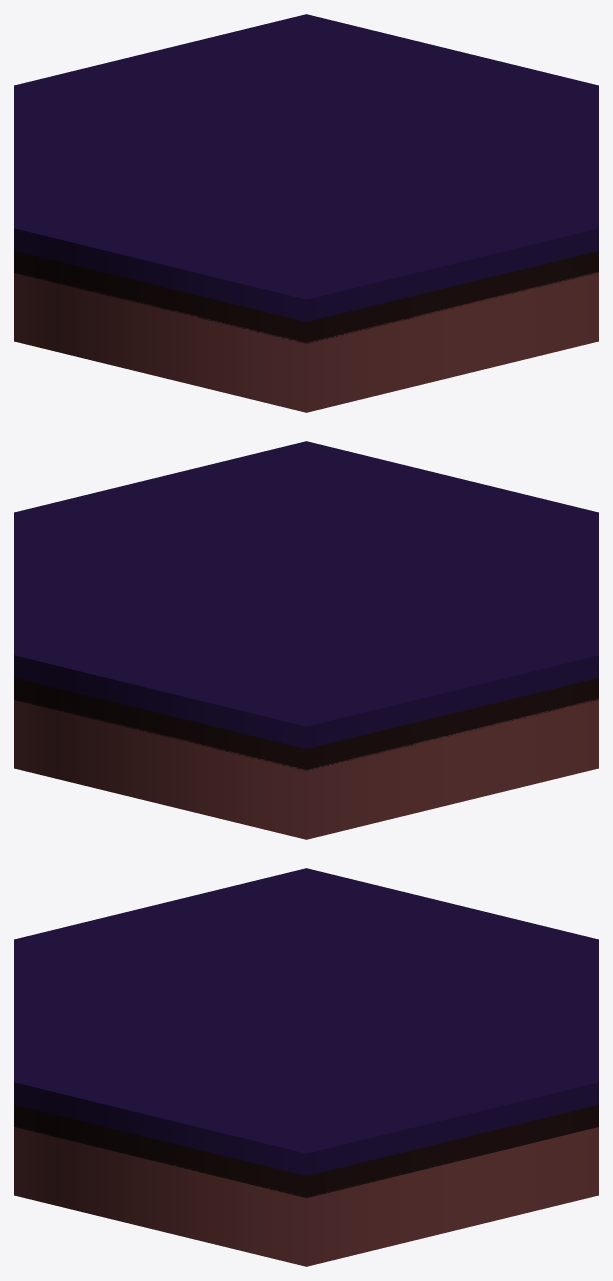
Rendered from LandPlot_Volcano.fbx.
3 views of the same model, one above another, from view 1: azimuth 30°, elevation 25°; view 2: azimuth 150°, elevation 25°; view 3: azimuth 270°, elevation 25° (orthographic).
Parts seen in each view (by area): view 1: Cylinder018, Cylinder020, Cylinder019; view 2: Cylinder018, Cylinder020, Cylinder019; view 3: Cylinder018, Cylinder020, Cylinder019.
Boxes of the visible parts, x1=… form: Cylinder018: x1=14, y1=14, x2=598, y2=321; Cylinder020: x1=14, y1=272, x2=598, y2=412; Cylinder019: x1=14, y1=250, x2=598, y2=344; Cylinder018: x1=14, y1=441, x2=598, y2=748; Cylinder020: x1=14, y1=698, x2=598, y2=839; Cylinder019: x1=14, y1=677, x2=598, y2=771; Cylinder018: x1=14, y1=868, x2=598, y2=1175; Cylinder020: x1=14, y1=1126, x2=598, y2=1266; Cylinder019: x1=14, y1=1105, x2=598, y2=1198.
Size of the model in its own units: 38668 by 7150 by 33487.
